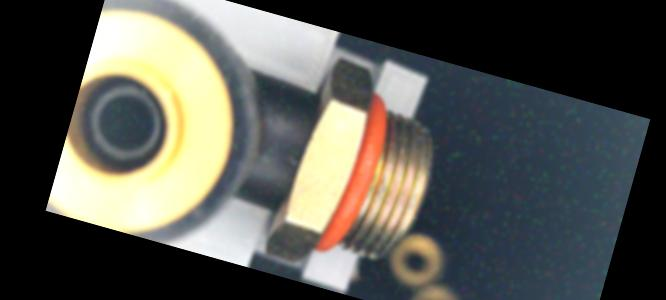white mark: (284, 156, 301, 169)
